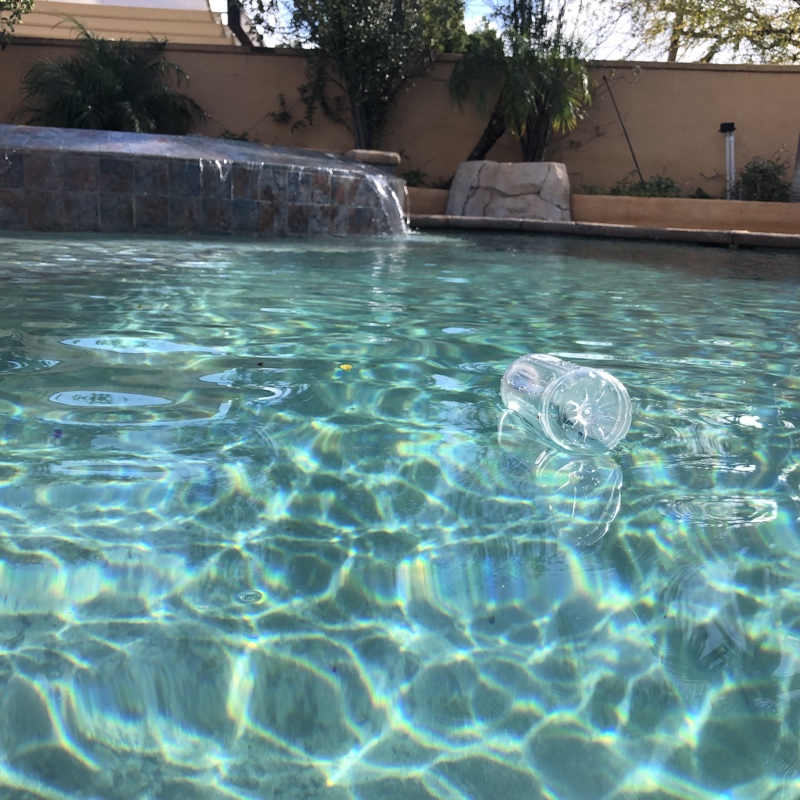Plastic Bottle: (496, 347, 635, 462)
